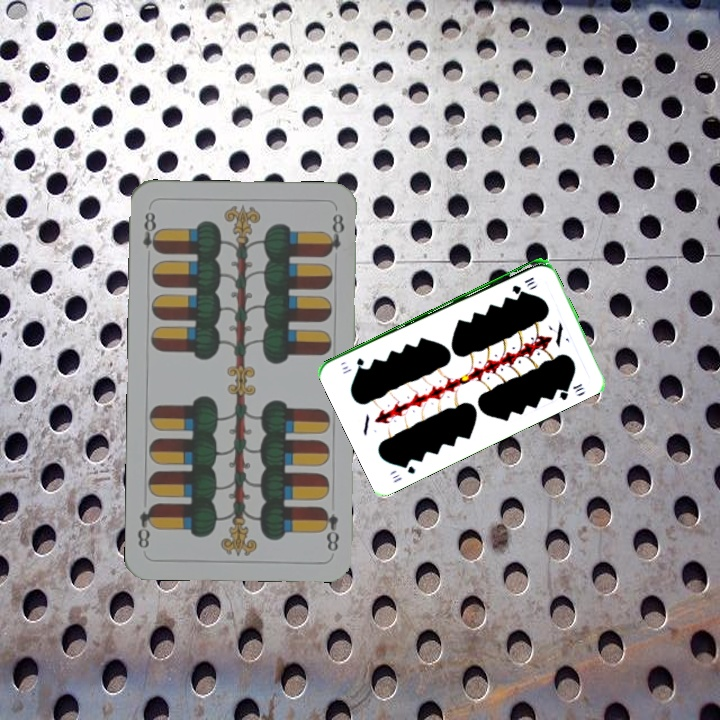E8: (138, 207, 162, 263), (318, 503, 342, 554)
G10: (389, 459, 418, 485), (508, 273, 536, 295)
